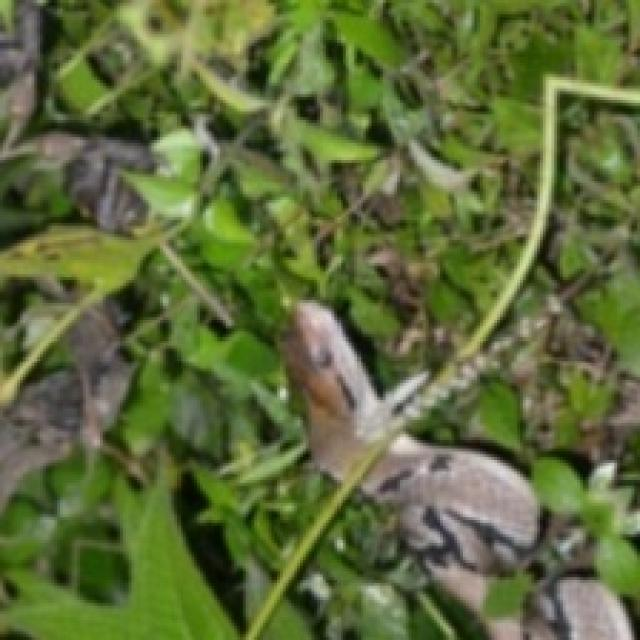dog-toothed cat snake: (360, 434, 537, 637), (360, 434, 537, 614), (286, 300, 417, 477)
